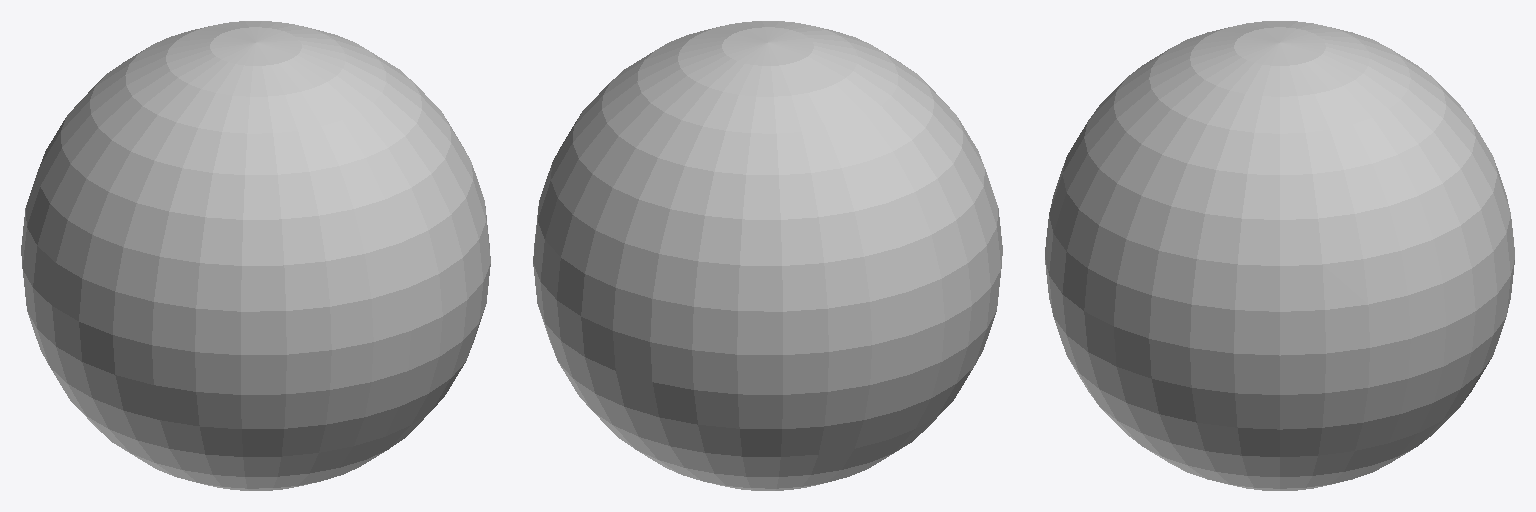
The model's file is eye2.obj.
The picture shows the model from 3 angles: view 1: azimuth 30°, elevation 25°; view 2: azimuth 150°, elevation 25°; view 3: azimuth 270°, elevation 25°; orthographic projection.
Visible parts, largest first — view 1: Sphere.003; view 2: Sphere.003; view 3: Sphere.003.
Boxes of the visible parts, x1=… form: Sphere.003: x1=21, y1=21, x2=490, y2=490; Sphere.003: x1=533, y1=21, x2=1002, y2=490; Sphere.003: x1=1045, y1=21, x2=1514, y2=490.
Size of the model in its own units: 0.1606 by 0.1606 by 0.1606.